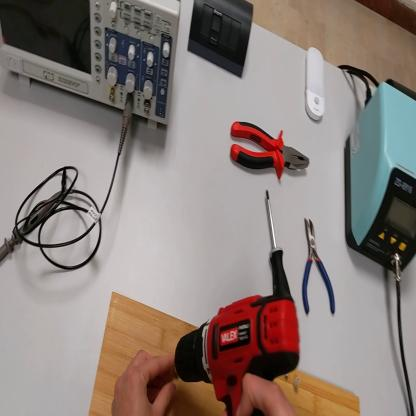electric screwdriver: (176, 299, 300, 412)
hand: (112, 355, 179, 414), (237, 374, 294, 414)
oscilloscope: (2, 1, 182, 133)
oscilloscope probe tip: (2, 186, 74, 265)
pliers: (226, 118, 312, 173), (299, 216, 337, 319)
screwdriver-: (263, 188, 292, 299)
socket: (386, 73, 416, 101)
welder station: (344, 83, 416, 273)
working area: (88, 291, 360, 416)
